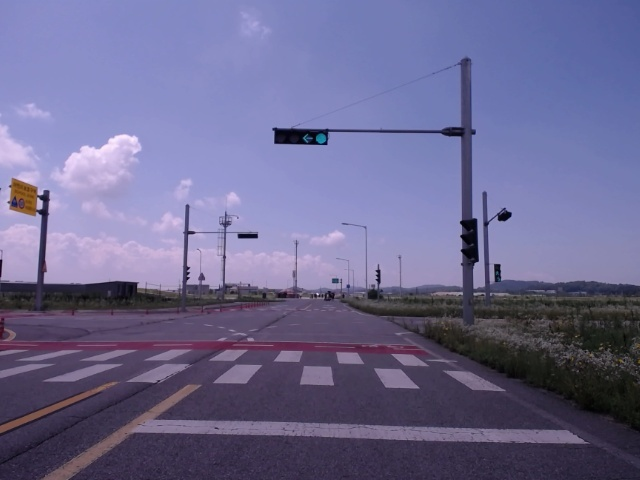all_green_4: (272, 127, 328, 145), (273, 126, 320, 147)
